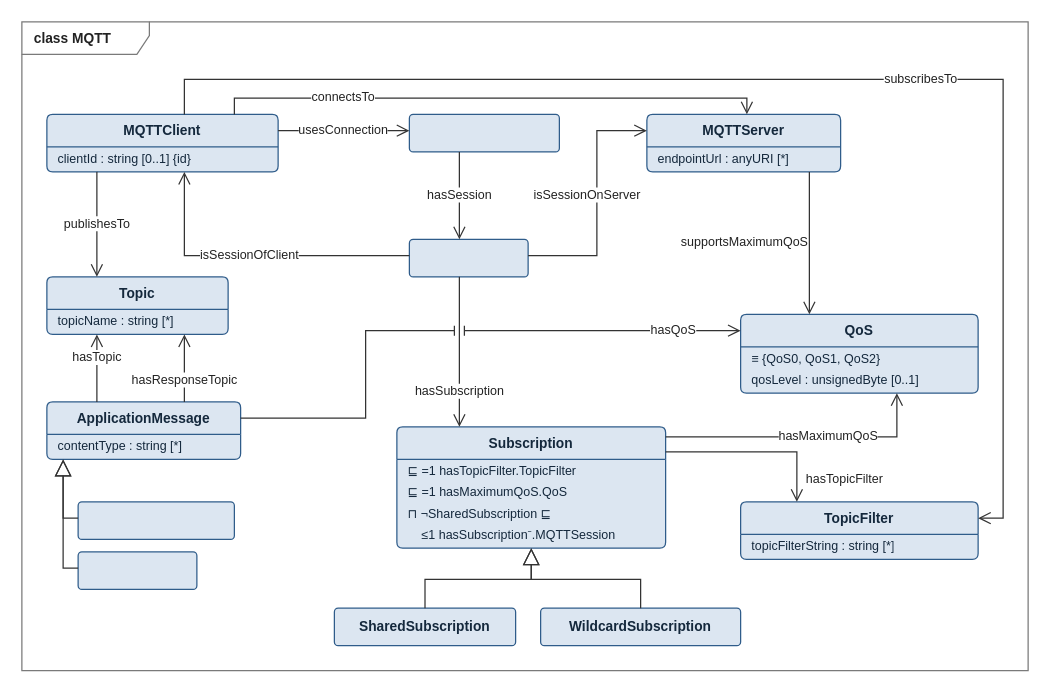
This 1050x693 diagram has some shape labels left out. Here are the shapes that lost their labels. From the top down, the centre of each, then its label:
At (483,132): "MQTTConnection".
At (468,257): "MQTTSession".
At (155,520): "RetainedMessage".
At (137,570): "WillMessage".
